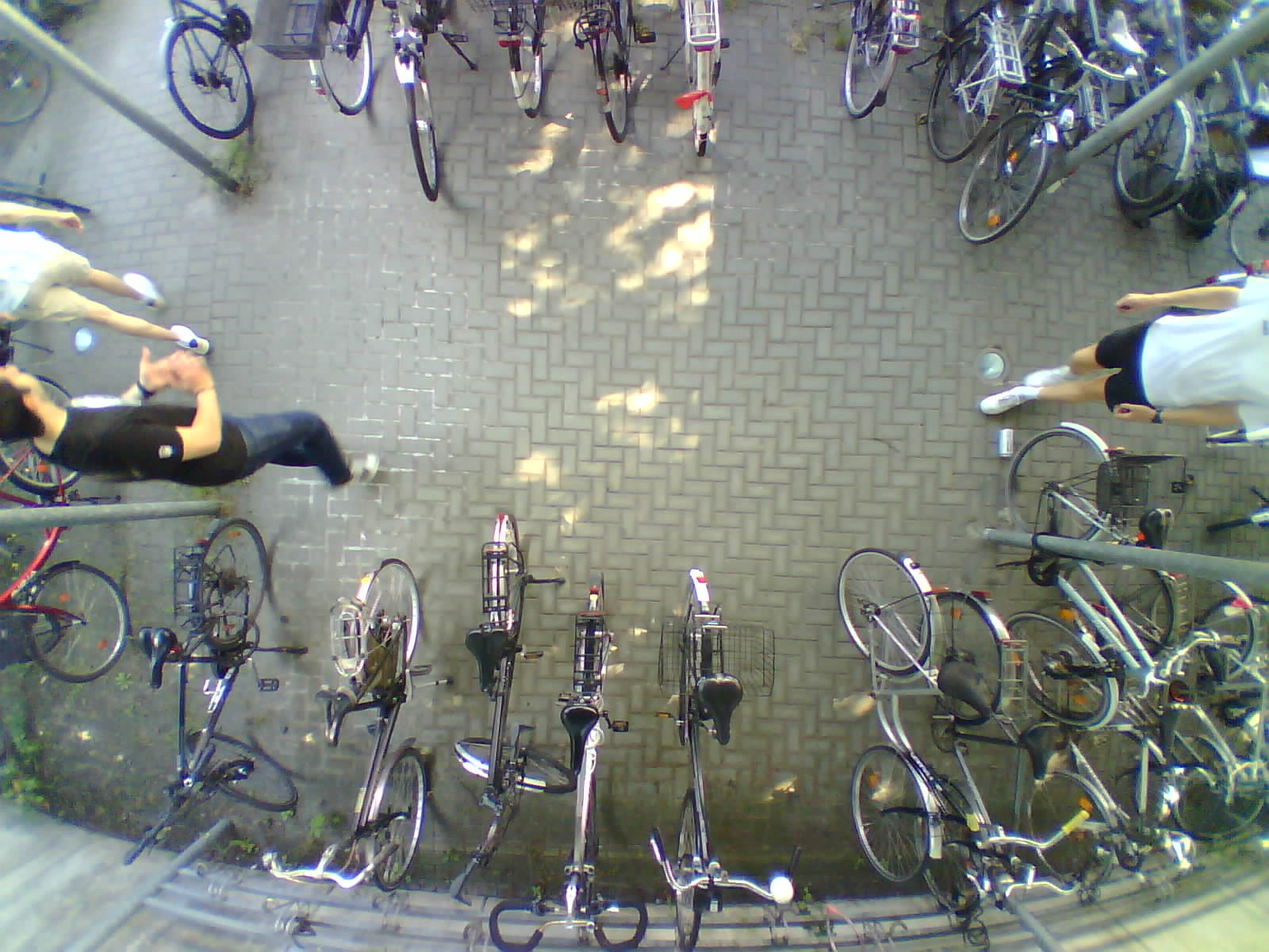bicylce: (999, 409, 1158, 724), (1083, 547, 1256, 832), (834, 543, 961, 875), (1033, 588, 1152, 908), (0, 370, 113, 688), (658, 571, 749, 952), (172, 514, 289, 805), (334, 557, 425, 892), (929, 587, 1015, 914), (470, 513, 543, 886), (555, 572, 622, 947), (977, 0, 1072, 250)
saddle: (698, 670, 746, 748), (935, 658, 993, 719), (317, 680, 360, 748), (1019, 718, 1066, 780), (466, 630, 512, 693), (135, 623, 178, 689), (560, 704, 598, 772), (1106, 11, 1150, 61), (1140, 501, 1179, 556), (1153, 697, 1184, 760), (1204, 638, 1228, 685), (1246, 79, 1269, 119)
